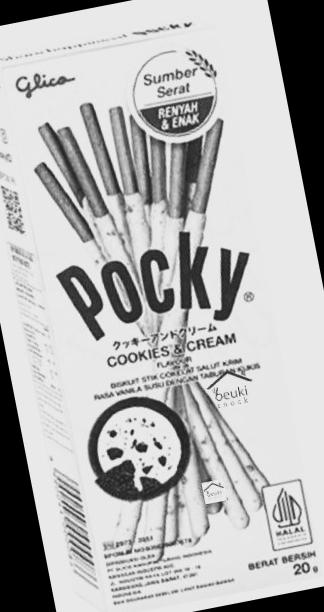Kertas: (0, 23, 322, 612)
